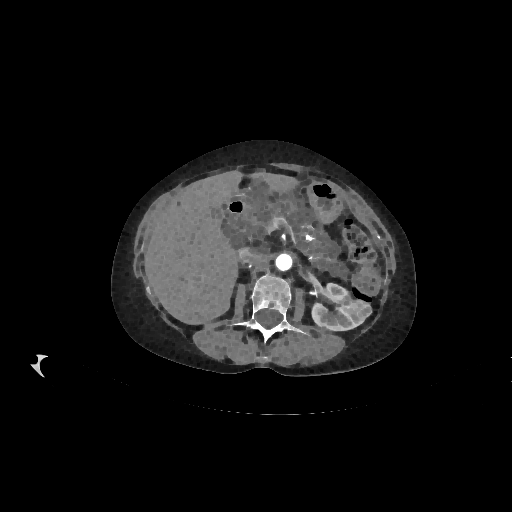Lesion: (346, 296, 374, 320)
